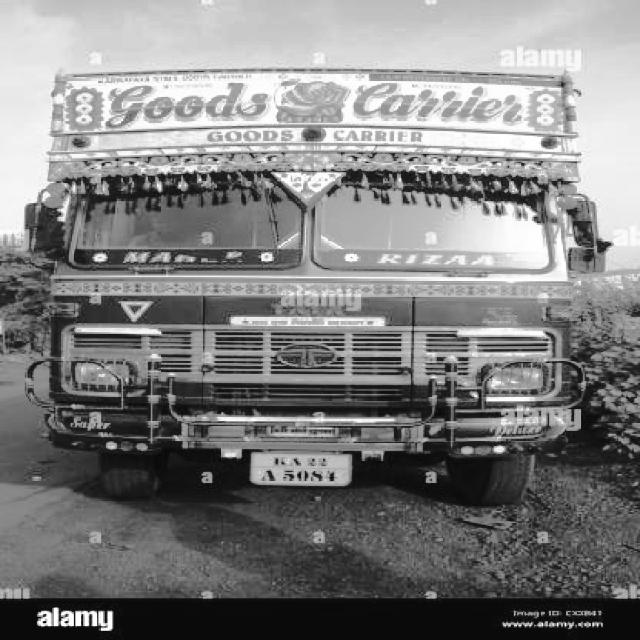HCV: (59, 64, 558, 498)
